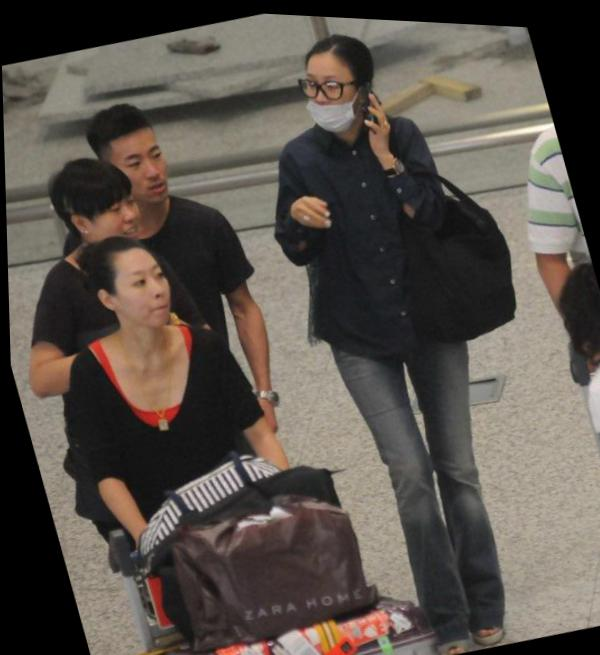NONE: (113, 259, 180, 332), (115, 137, 181, 209), (82, 190, 148, 257)
WRONG: (298, 52, 379, 134)
